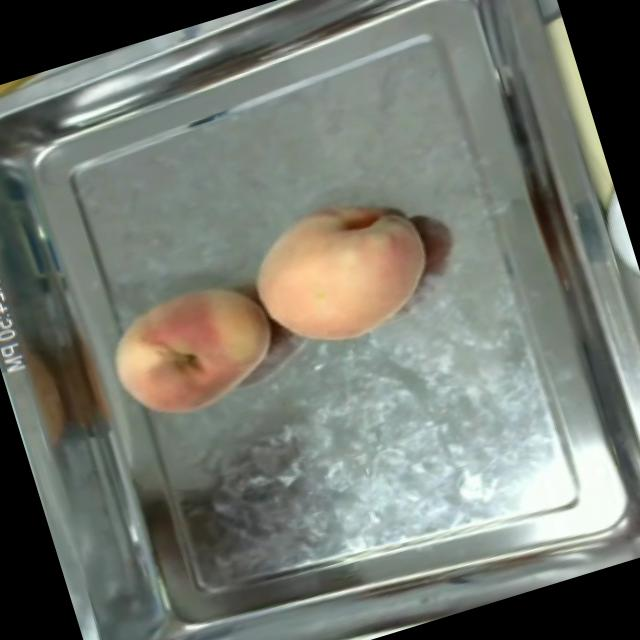Fruit: (234, 173, 452, 368), (87, 260, 295, 440)
